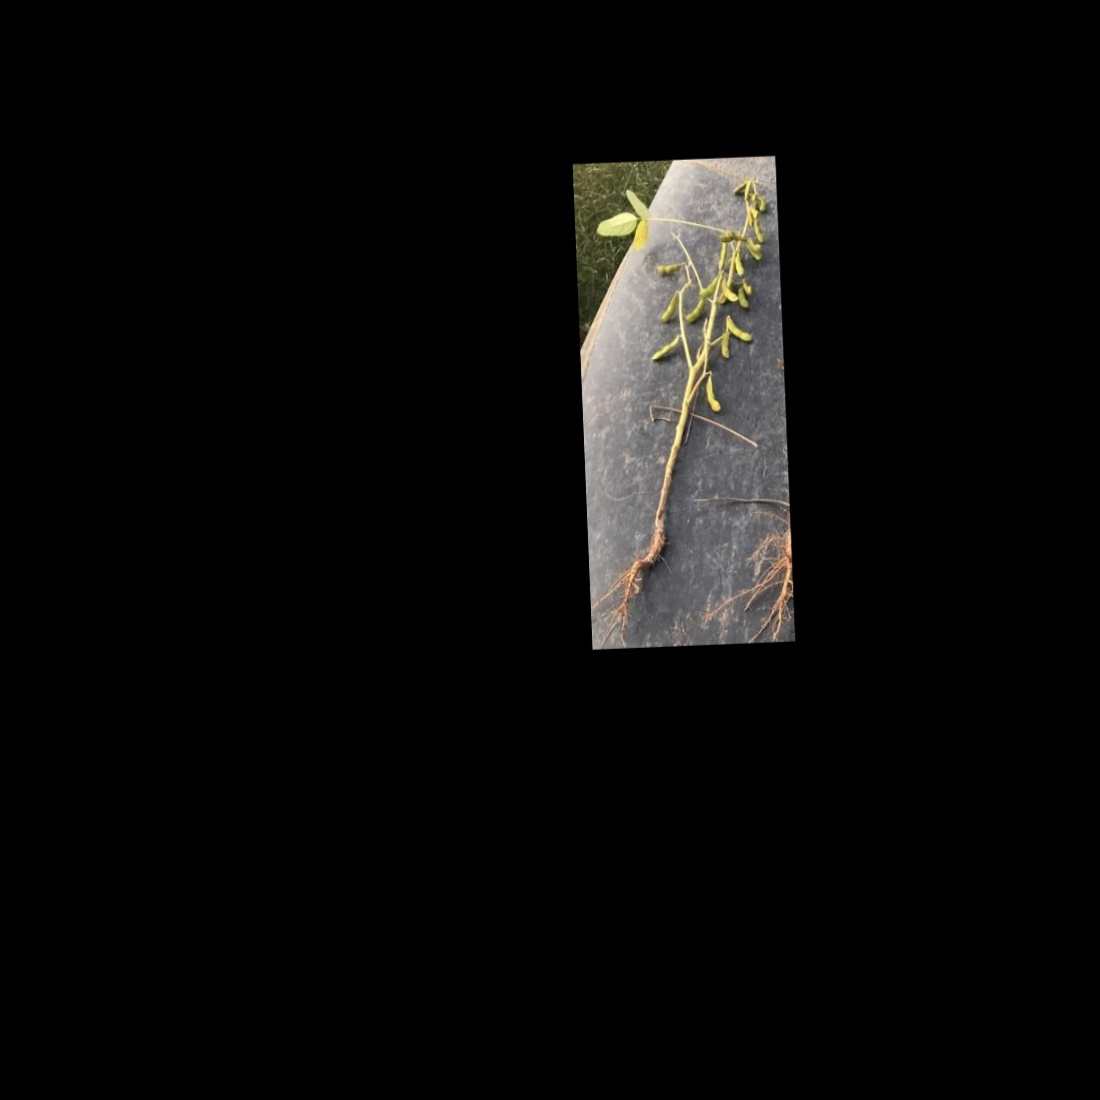pod: (703, 368, 727, 414), (655, 286, 680, 326), (648, 331, 681, 360), (650, 256, 687, 278), (727, 314, 754, 343), (681, 295, 707, 325), (693, 271, 723, 296), (713, 241, 730, 274), (732, 250, 747, 279), (718, 332, 732, 363), (754, 220, 769, 245)
soy: (591, 165, 785, 612)
